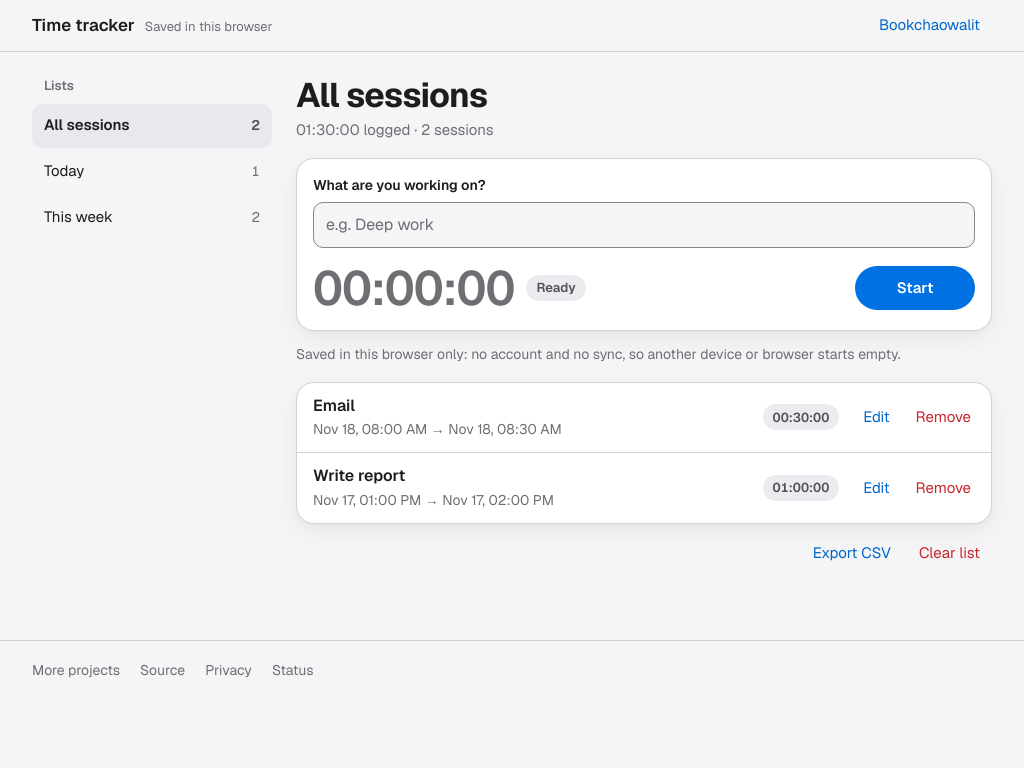
Test: remove, clear and undo › Clear in Today keeps older sessions; Escape dismisses the toast without restoring
Click the button "Today 1".
click(152, 172)  # box [32,150,272,194]
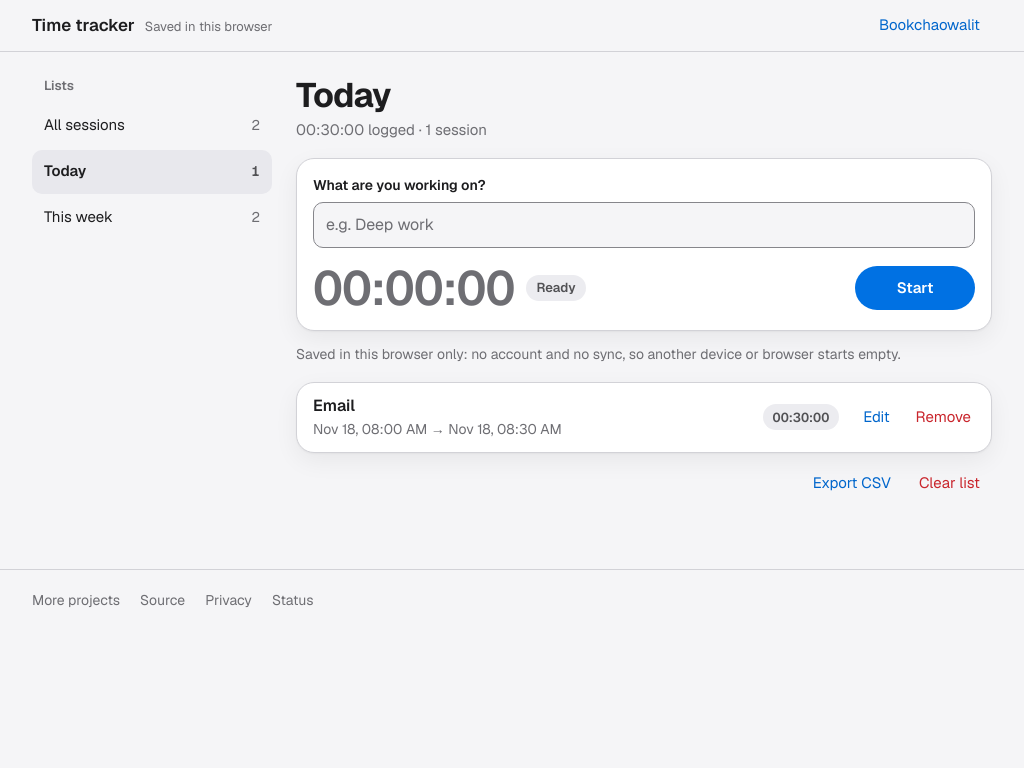
Click the button with aria-label "Clear list: 1 session in Today".
click(949, 483)  # box [907,461,992,505]
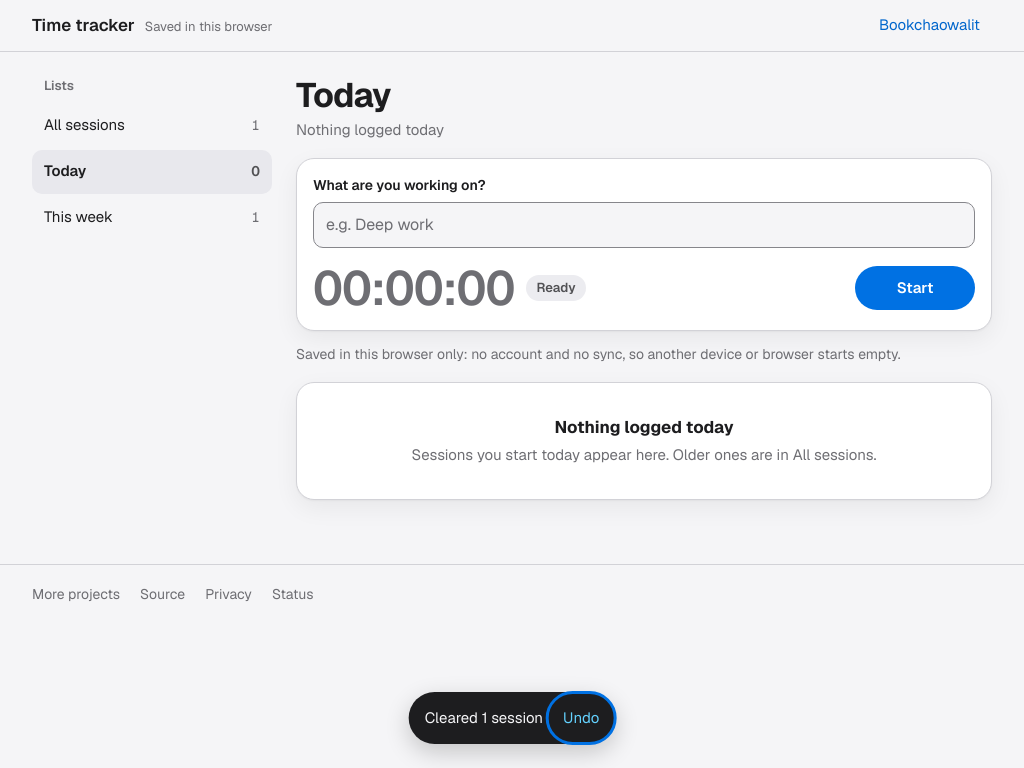
Press Escape in the element with class "as-toast", box [409,692,615,744]
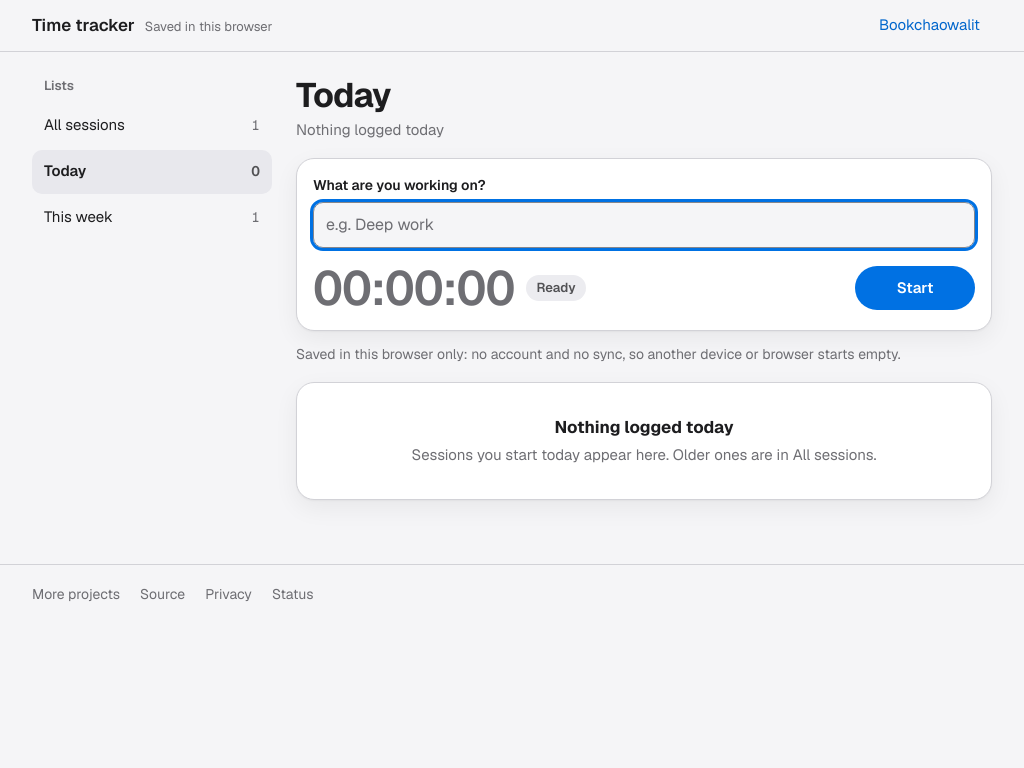
expect the element with class "as-toast" is gone: met
